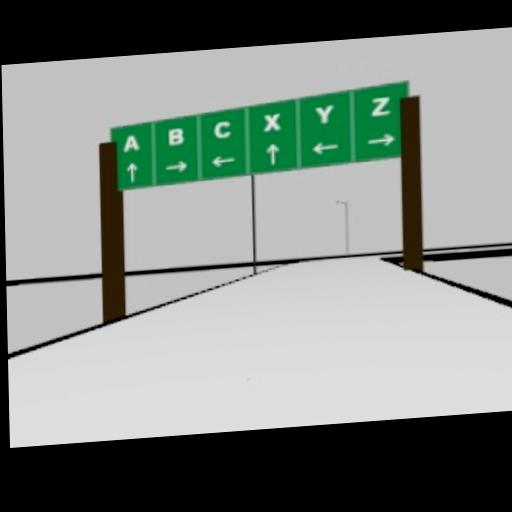A: (123, 132, 140, 151)
B: (167, 126, 183, 144)
C: (214, 119, 231, 137)
Left: (310, 138, 340, 152), (211, 153, 235, 167)
Right: (366, 131, 394, 147), (164, 158, 188, 172)
Straight: (265, 141, 279, 163), (126, 161, 138, 180)
X: (262, 112, 280, 130)
Y: (314, 102, 334, 122)
Z: (370, 95, 392, 115)
